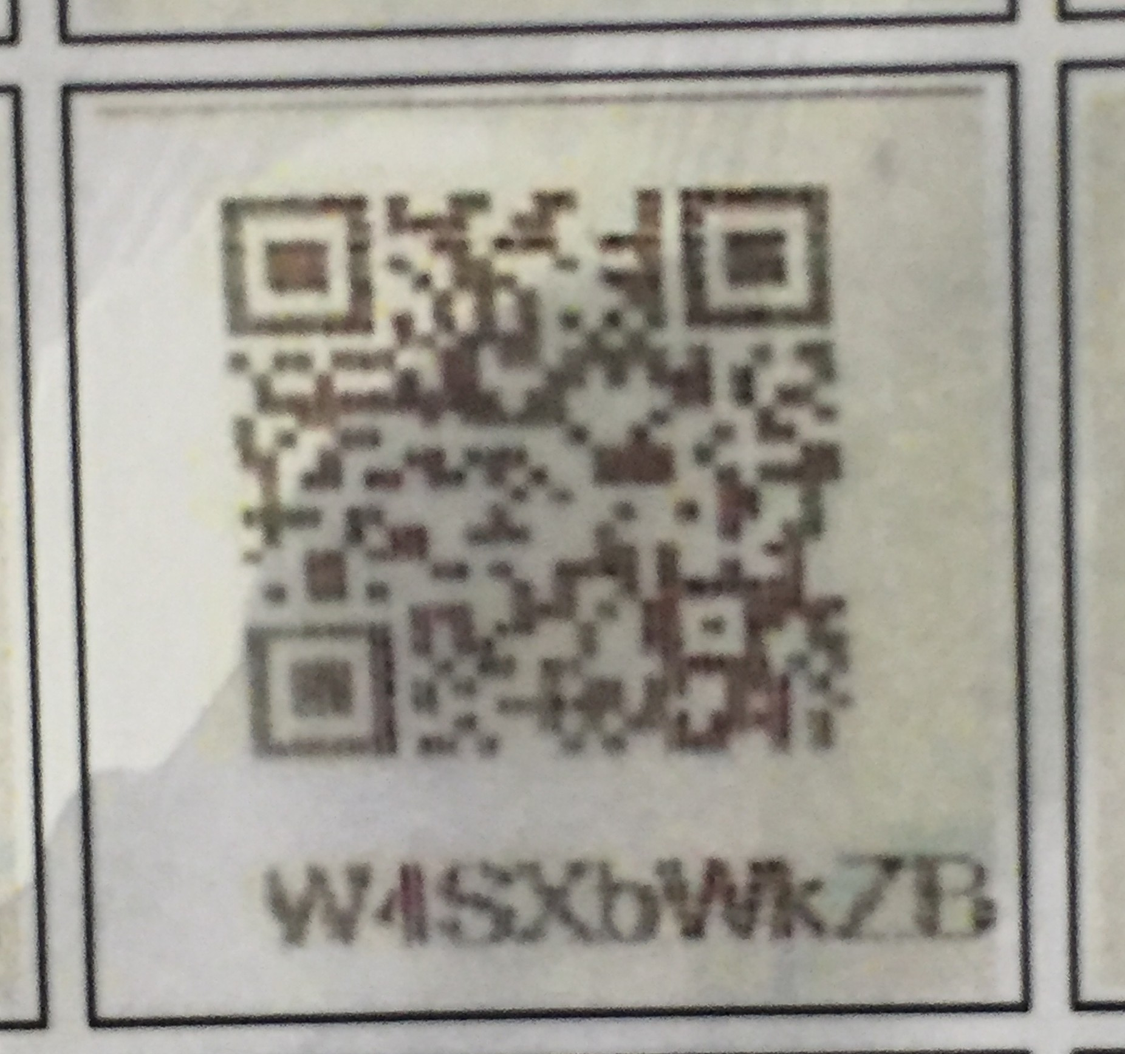QR-CODE: (195, 161, 878, 788)
